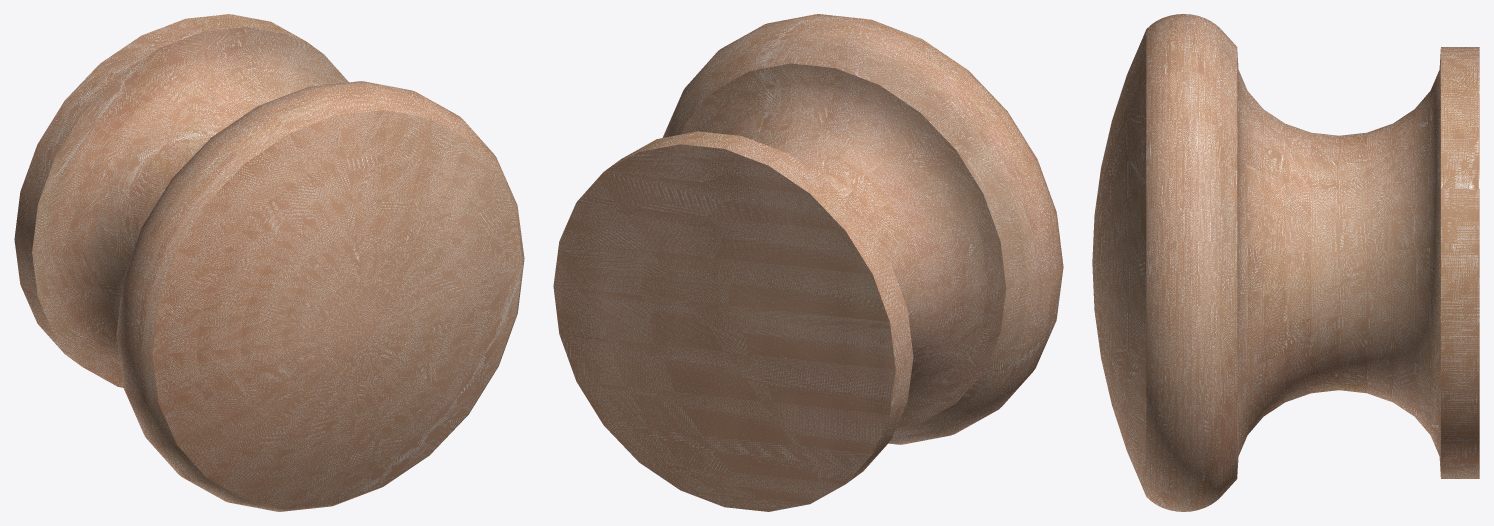
File: original-2.obj
3 views of the same model, side by side, from view 1: azimuth 30°, elevation 25°; view 2: azimuth 150°, elevation 25°; view 3: azimuth 270°, elevation 25° (orthographic). The views are drawn at different scales.
Parts seen in each view (by area): view 1: knob_2_1/knob_2/mesh1/mesh1-geometry#mesh1-geometry; view 2: knob_2_1/knob_2/mesh1/mesh1-geometry#mesh1-geometry; view 3: knob_2_1/knob_2/mesh1/mesh1-geometry#mesh1-geometry.
Part boxes in pixels (bbox=[...]): knob_2_1/knob_2/mesh1/mesh1-geometry#mesh1-geometry: bbox=[14, 14, 524, 511]; knob_2_1/knob_2/mesh1/mesh1-geometry#mesh1-geometry: bbox=[553, 14, 1063, 511]; knob_2_1/knob_2/mesh1/mesh1-geometry#mesh1-geometry: bbox=[1092, 14, 1479, 511].
Bounding box in the file's own units: 0.0635 × 0.0635 × 0.0492.
